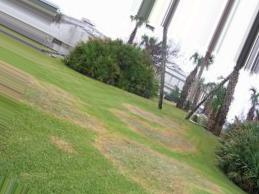patch: (111, 141, 166, 175), (33, 78, 81, 112), (127, 106, 166, 126), (51, 135, 77, 160), (168, 164, 196, 183)
